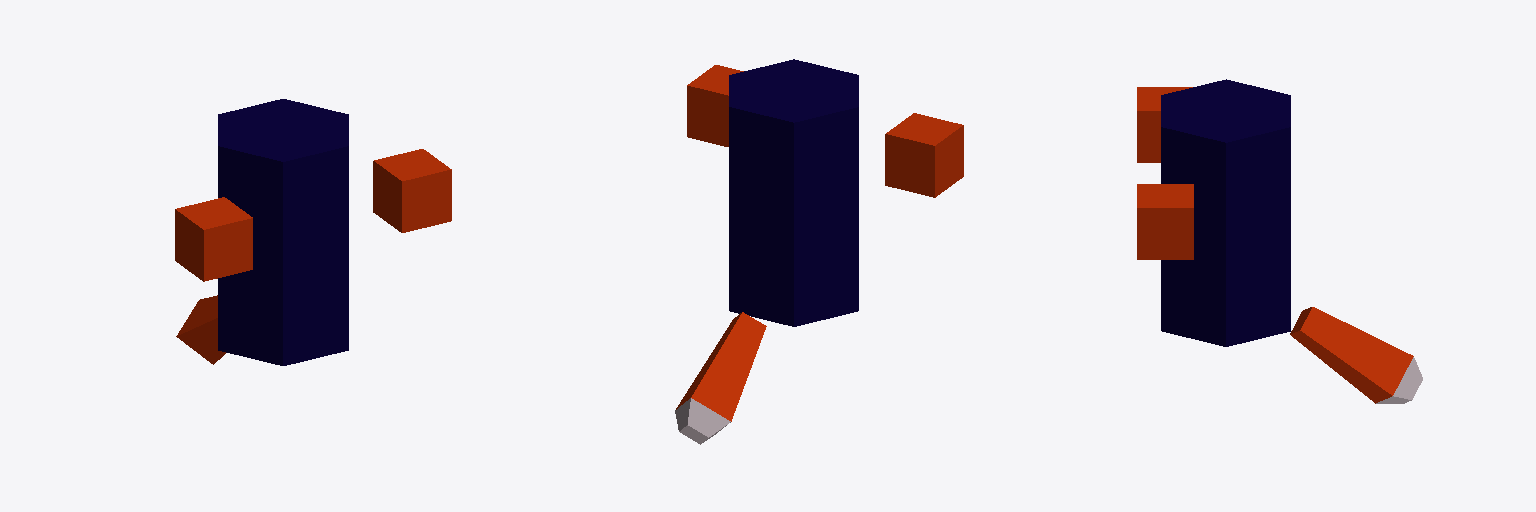
Rendered from foxz.obj.
The picture shows the model from 3 angles: view 1: azimuth 30°, elevation 25°; view 2: azimuth 150°, elevation 25°; view 3: azimuth 270°, elevation 25°; orthographic projection.
Visible parts, largest first — view 1: Cone; view 2: Cone; view 3: Cone.
Boxes of the visible parts, x1=… form: Cone: x1=175, y1=99, x2=451, y2=365; Cone: x1=675, y1=59, x2=963, y2=444; Cone: x1=1137, y1=79, x2=1422, y2=403.
Size of the model in its own units: 0.7621 by 0.8525 by 0.7631.